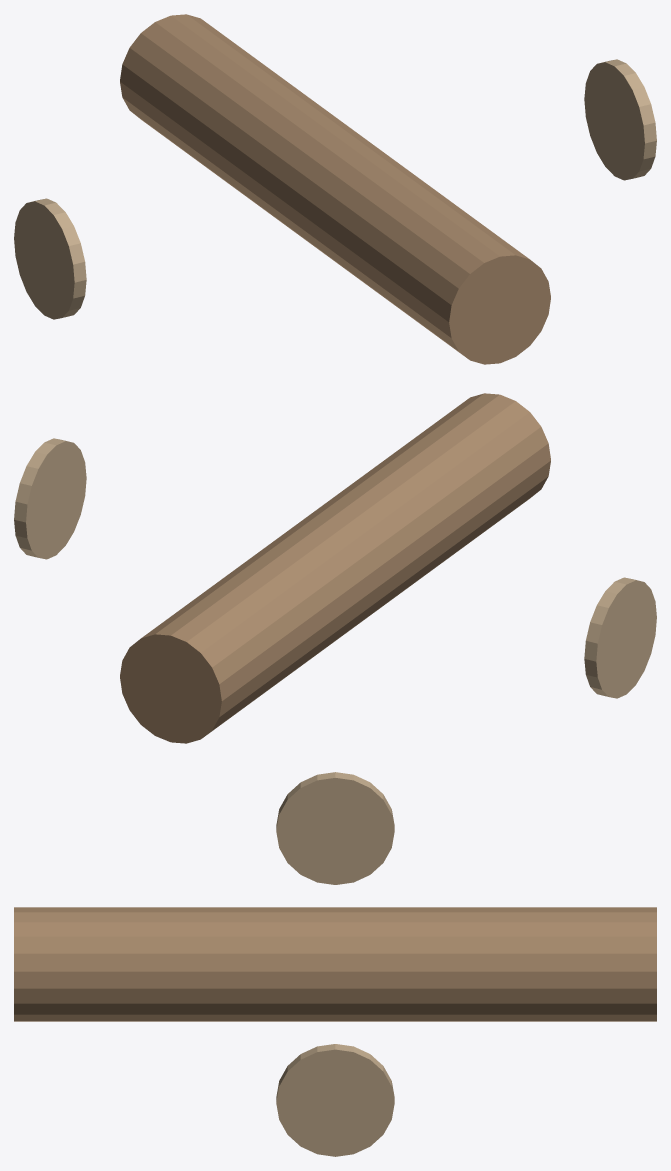
The model's file is log_tilt.glb.
3 views of the same model, one above another, from view 1: azimuth 30°, elevation 25°; view 2: azimuth 150°, elevation 25°; view 3: azimuth 270°, elevation 25° (orthographic). The views are drawn at different scales.
Visible parts, largest first — view 1: world; view 2: world; view 3: world.
Part boxes in pixels (<box>): world: <box>14,14,656,364</box>; world: <box>14,393,656,743</box>; world: <box>14,772,656,1156</box>.
Bounding box in the file's own units: 3.88 × 0.7 × 3.8.
